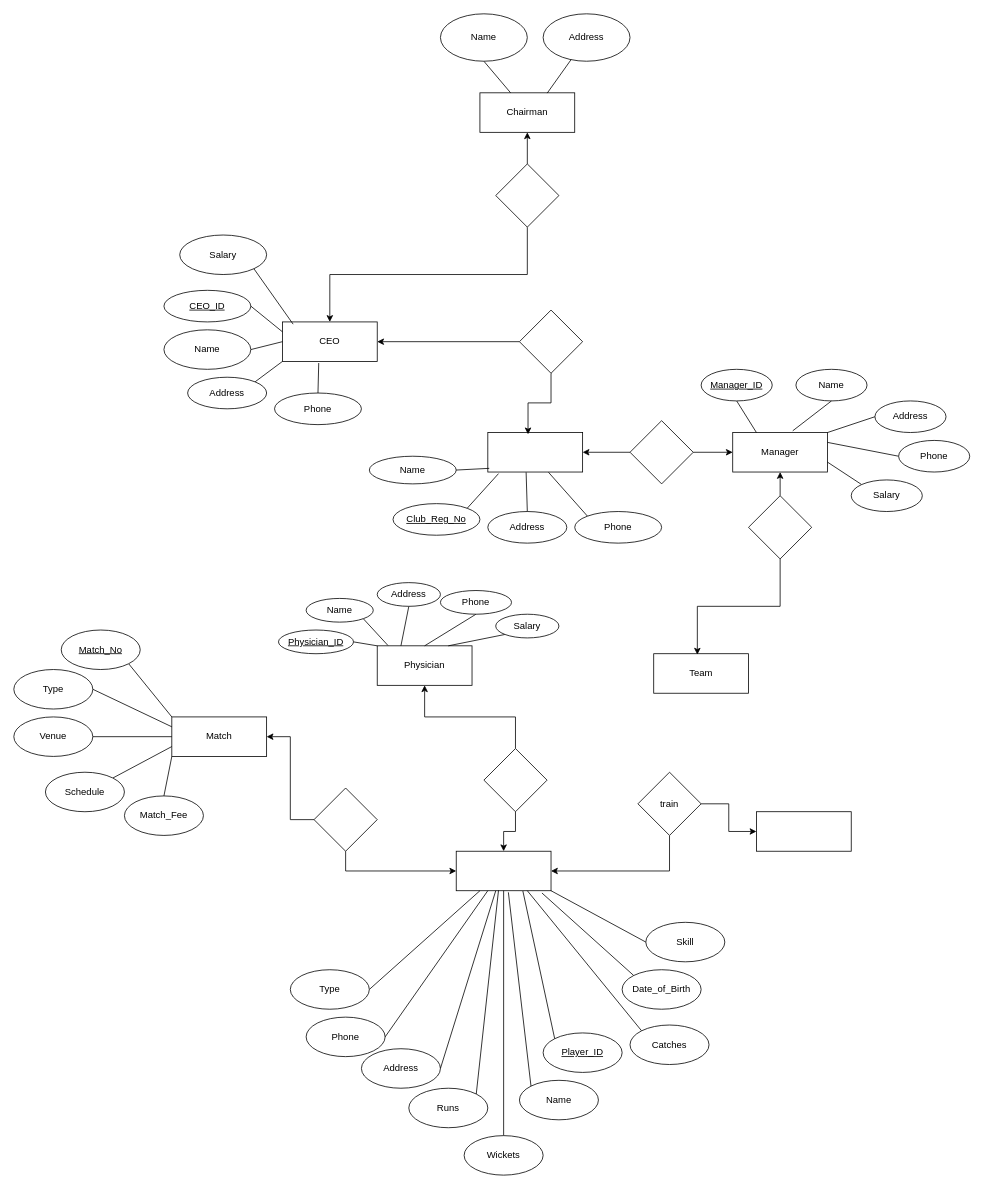
This 984x1189 diagram has some shape labels left out. The box of each missing label's shape, as (x1, y1, x2, y2) in pixels:
Appoints: (495, 163, 559, 227)
Club: (487, 432, 583, 472)
Coach: (756, 811, 851, 851)
Has: (629, 420, 693, 484)
Leads: (519, 309, 583, 373)
Manage: (748, 495, 812, 559)
Participate: (313, 787, 377, 851)
Players: (455, 850, 551, 891)
Treats: (483, 748, 547, 812)
